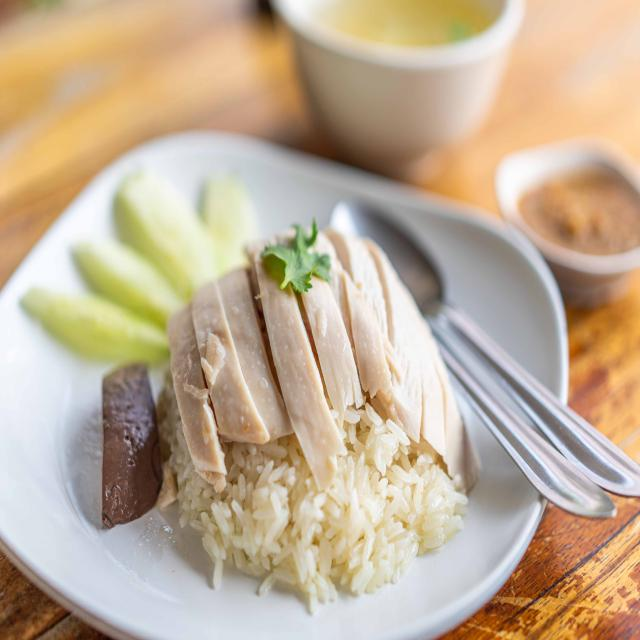Hainanese chicken rice: (166, 252, 470, 611)
carb: (186, 436, 452, 593)
meat: (172, 269, 417, 447)
